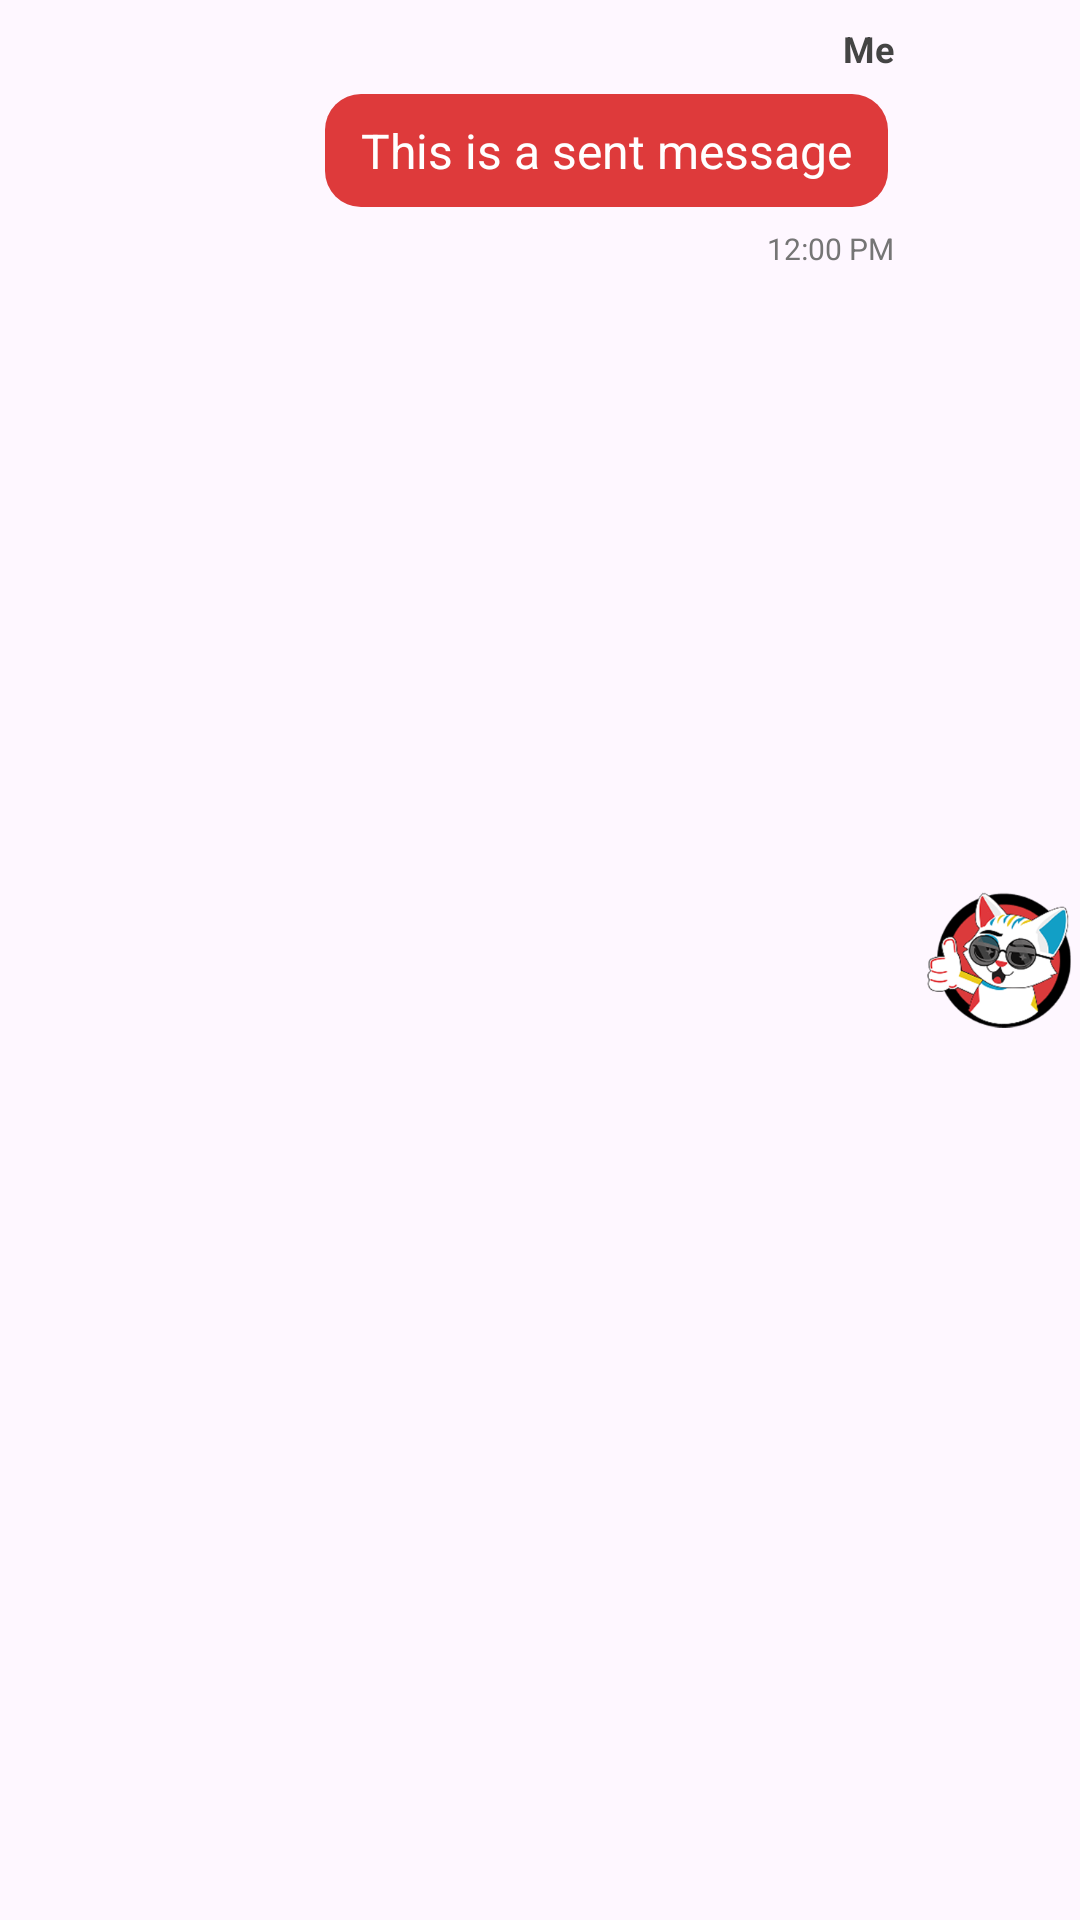

Named icons in this screenshot (1080*1920) and their centers, point (x, y):
account: point (999, 960)
